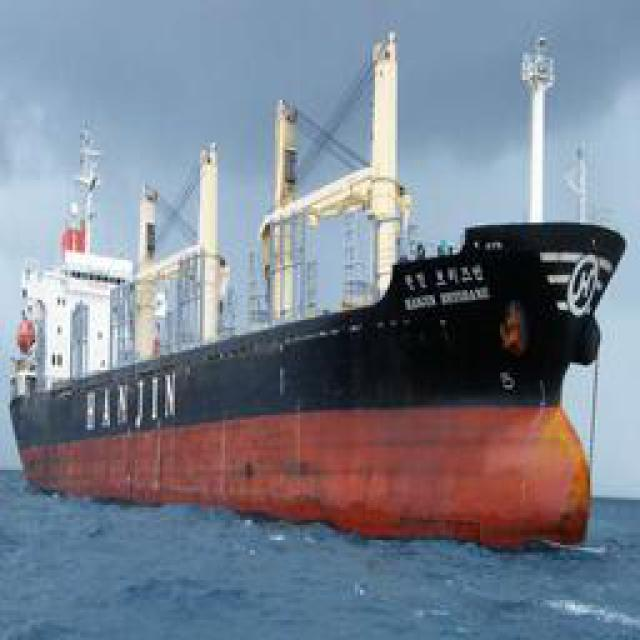Ship: (14, 172, 624, 540)
